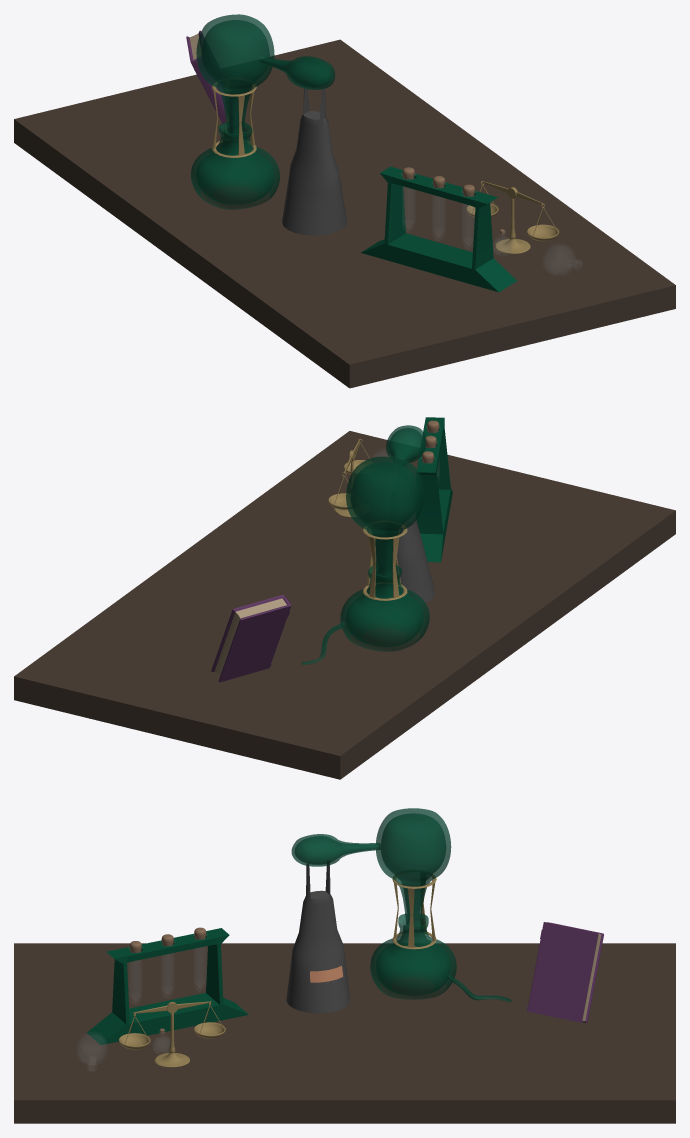
The model's file is Alchemy_Station.fbx.
The picture shows the model from 3 angles, top to bottom: view 1: azimuth 30°, elevation 25°; view 2: azimuth 150°, elevation 25°; view 3: azimuth 270°, elevation 25°; orthographic projection.
Visible parts, largest first — view 1: Desk, pCube3, Stovetop, Bottle3, Bottle5, Bottle4, Book_2:book_2, Holder, Bottle, Scale:Scale; view 2: Desk, Bottle3, Bottle5, Book_2:book_2, pCube3, Stovetop, Bottle4, Holder; view 3: Desk, pCube3, Stovetop, Book_2:book_2, Bottle3, Bottle5, Bottle4, Holder, Bottle, Scale:Scale.
Part boxes in pixels (x1,y1,x2,y2): Desk: [14, 39, 675, 388]; pCube3: [361, 166, 516, 292]; Stovetop: [282, 79, 346, 235]; Bottle3: [196, 14, 274, 134]; Bottle5: [190, 122, 279, 209]; Bottle4: [259, 56, 335, 89]; Book_2:book_2: [186, 30, 226, 126]; Holder: [212, 82, 256, 157]; Bottle: [545, 246, 577, 273]; Scale:Scale: [495, 198, 530, 253]; Desk: [14, 431, 675, 779]; Bottle3: [346, 456, 423, 576]; Bottle5: [301, 564, 429, 665]; Book_2:book_2: [211, 595, 291, 682]; pCube3: [416, 417, 452, 562]; Stovetop: [376, 458, 435, 604]; Bottle4: [386, 425, 426, 465]; Holder: [362, 525, 407, 600]; Desk: [14, 943, 675, 1123]; pCube3: [87, 928, 248, 1044]; Stovetop: [286, 860, 349, 1013]; Book_2:book_2: [527, 922, 603, 1022]; Bottle3: [376, 808, 451, 925]; Bottle5: [370, 914, 511, 1002]; Bottle4: [291, 834, 380, 866]; Holder: [392, 874, 436, 949]; Bottle: [78, 1035, 105, 1065]; Scale:Scale: [154, 1013, 189, 1067].
Size of the model in its own units: 131 by 75.32 by 233.
